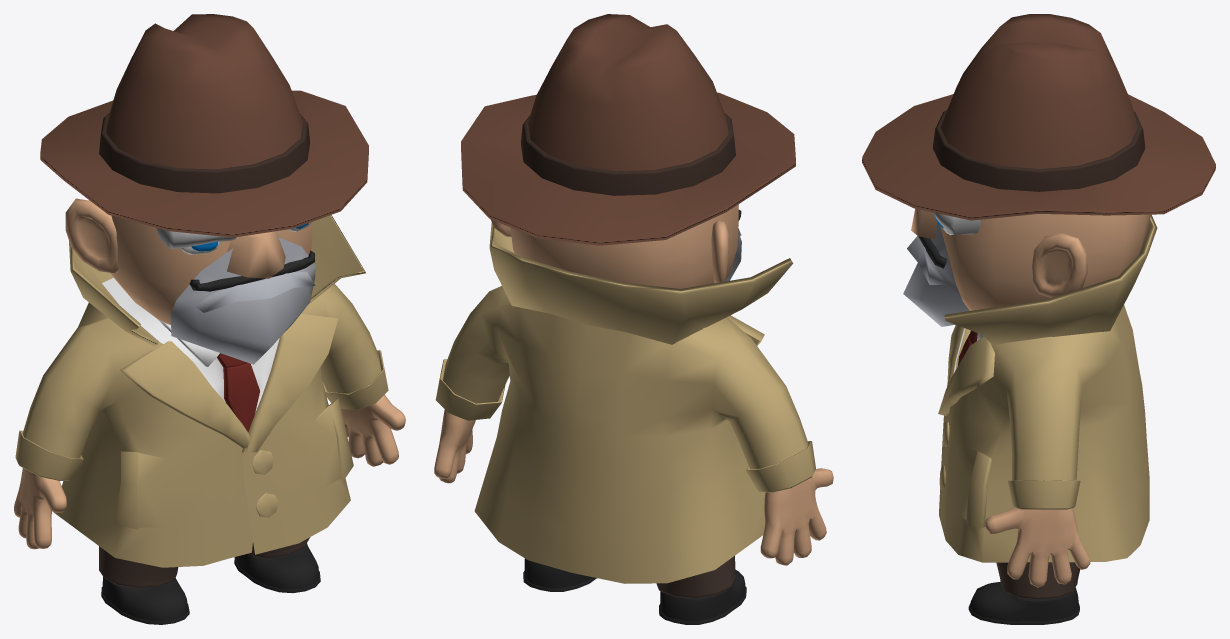
The model's file is Old.glb.
3 renders of one model, left to right at view 1: azimuth 30°, elevation 25°; view 2: azimuth 150°, elevation 25°; view 3: azimuth 270°, elevation 25°, orthographic. The views are drawn at different scales.
Visible parts, largest first — view 1: Old; view 2: Old; view 3: Old.
Part boxes in pixels (x1,y1,x2,y2): Old: [14, 14, 405, 624]; Old: [434, 14, 833, 624]; Old: [862, 14, 1215, 624].
Bounding box in the file's own units: 1.01 × 1.44 × 0.8479.
